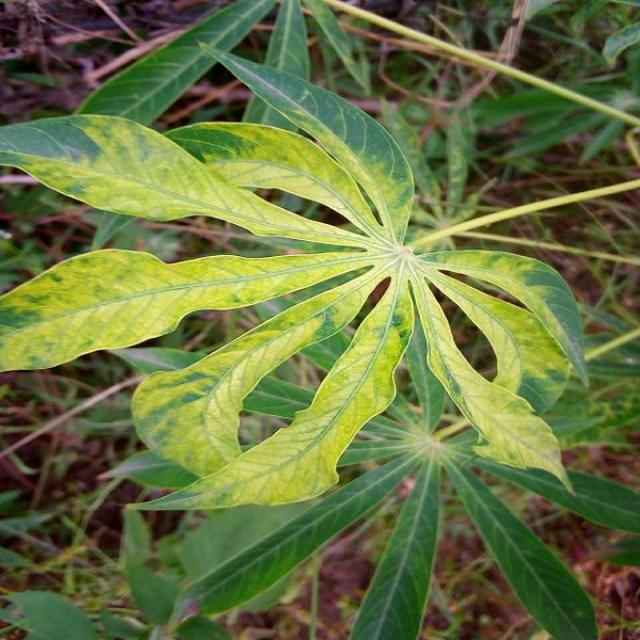cassava leaf: (1, 43, 590, 516)
